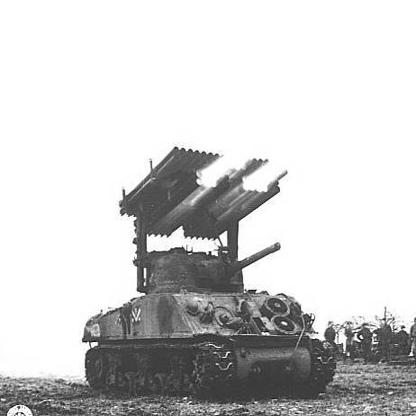Tank: (80, 246, 345, 408)
